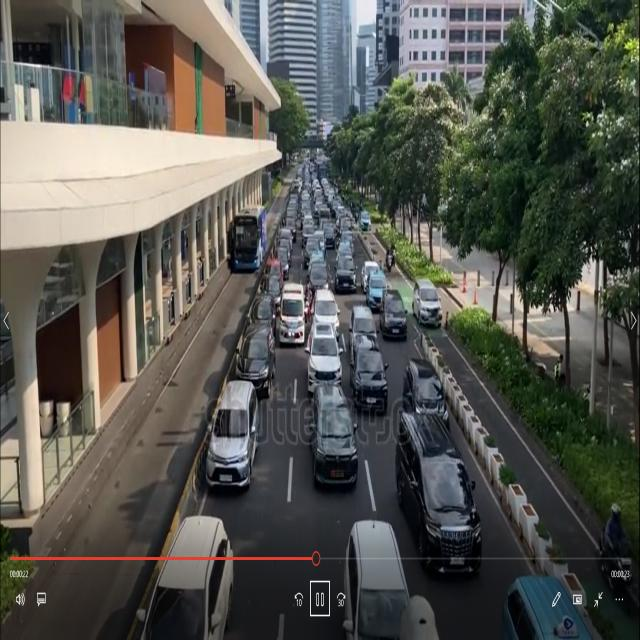Ambulance: (277, 273, 310, 350)
